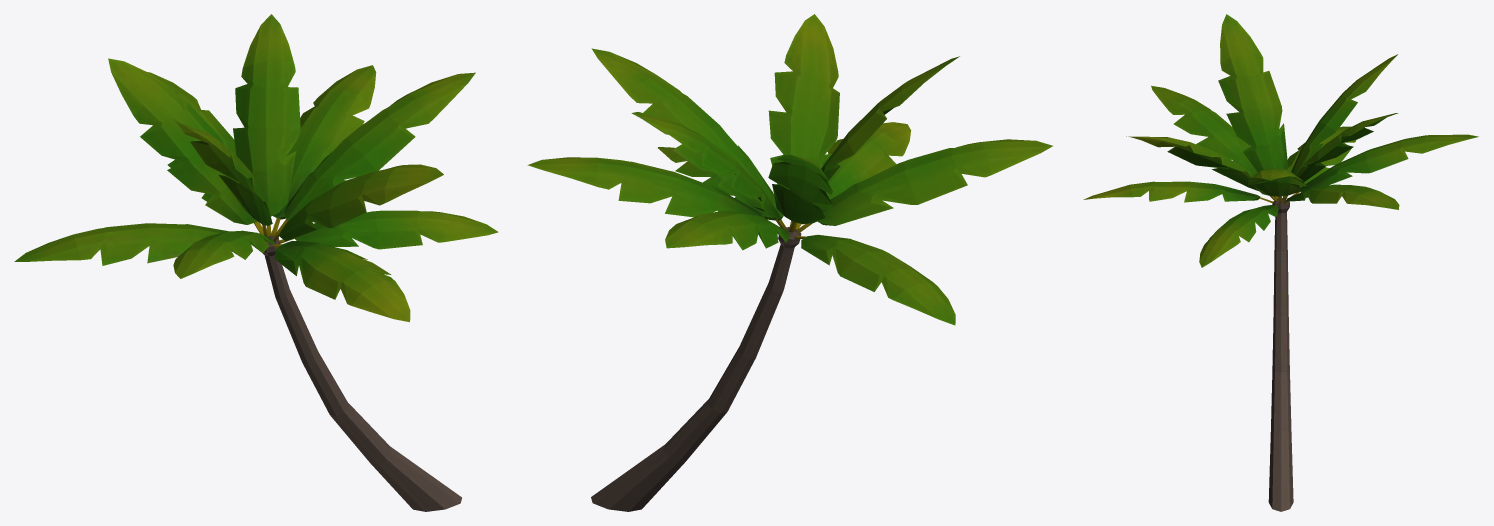
File: palm_lean.glb
3 views of the same model, side by side, from view 1: azimuth 30°, elevation 25°; view 2: azimuth 150°, elevation 25°; view 3: azimuth 270°, elevation 25° (orthographic). The views are drawn at different scales.
Parts seen in each view (by area): view 1: Node; view 2: Node; view 3: Node.
Part boxes in pixels (<box>): Node: <box>14,14,498,511</box>; Node: <box>527,14,1052,511</box>; Node: <box>1083,14,1478,511</box>.
Size of the model in its own units: 15.28 by 17.24 by 16.55.
1 material, 1 textured.
